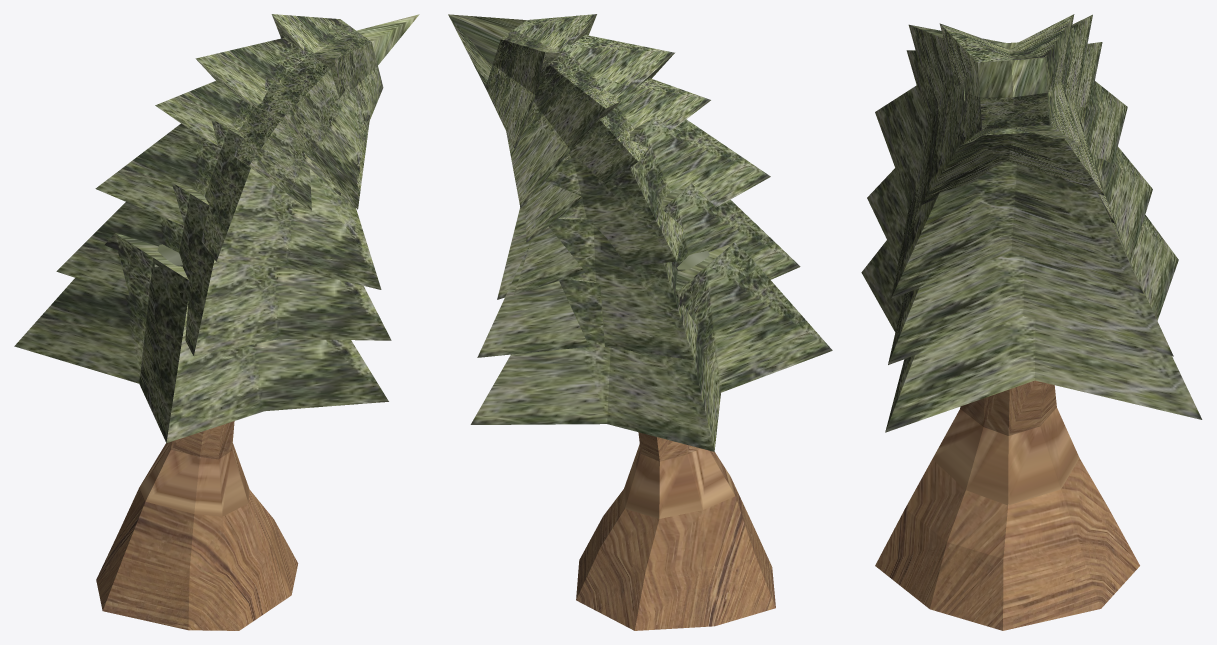
File: crappy_tree02 1.fbx
The picture shows the model from 3 angles, left to right: view 1: azimuth 30°, elevation 25°; view 2: azimuth 150°, elevation 25°; view 3: azimuth 270°, elevation 25°; orthographic projection. The views are drawn at different scales.
Parts seen in each view (by area): view 1: Cube.005; view 2: Cube.005; view 3: Cube.005.
Boxes of the visible parts, box(x1,y1,x2,y2) form: Cube.005: box(14, 14, 419, 630); Cube.005: box(448, 14, 832, 630); Cube.005: box(861, 14, 1202, 630).
Bounding box in the file's own units: 286 × 429 × 214.
